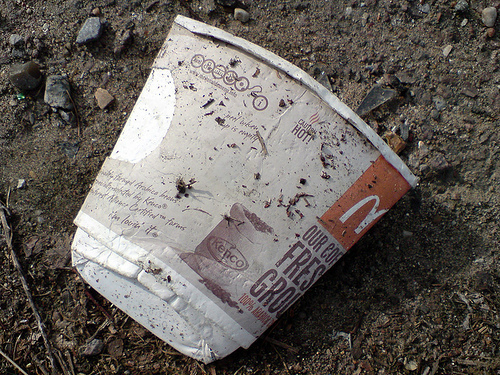litter: (69, 15, 418, 363)
